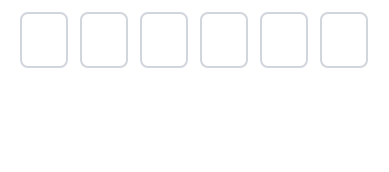
it: OTPInput Component › Paste Functionality › should handle pasting valid OTP code
This screenshot has width=389, height=172.
# Focus first input and paste
Click the 1st field at x=44, y=40, box left=20, top=12, right=68, bottom=68
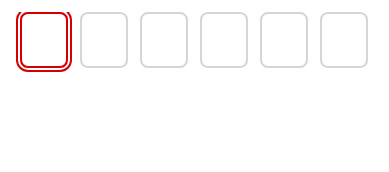
Type keys "123456"
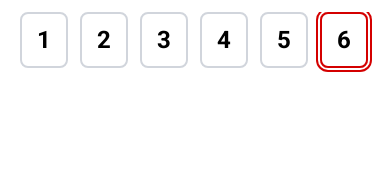
Check: the 1st field holds "1", box left=20, top=12, right=68, bottom=68
Check: the 2nd field holds "2", box left=80, top=12, right=128, bottom=68
Check: the 3rd field holds "3", box left=140, top=12, right=188, bottom=68
